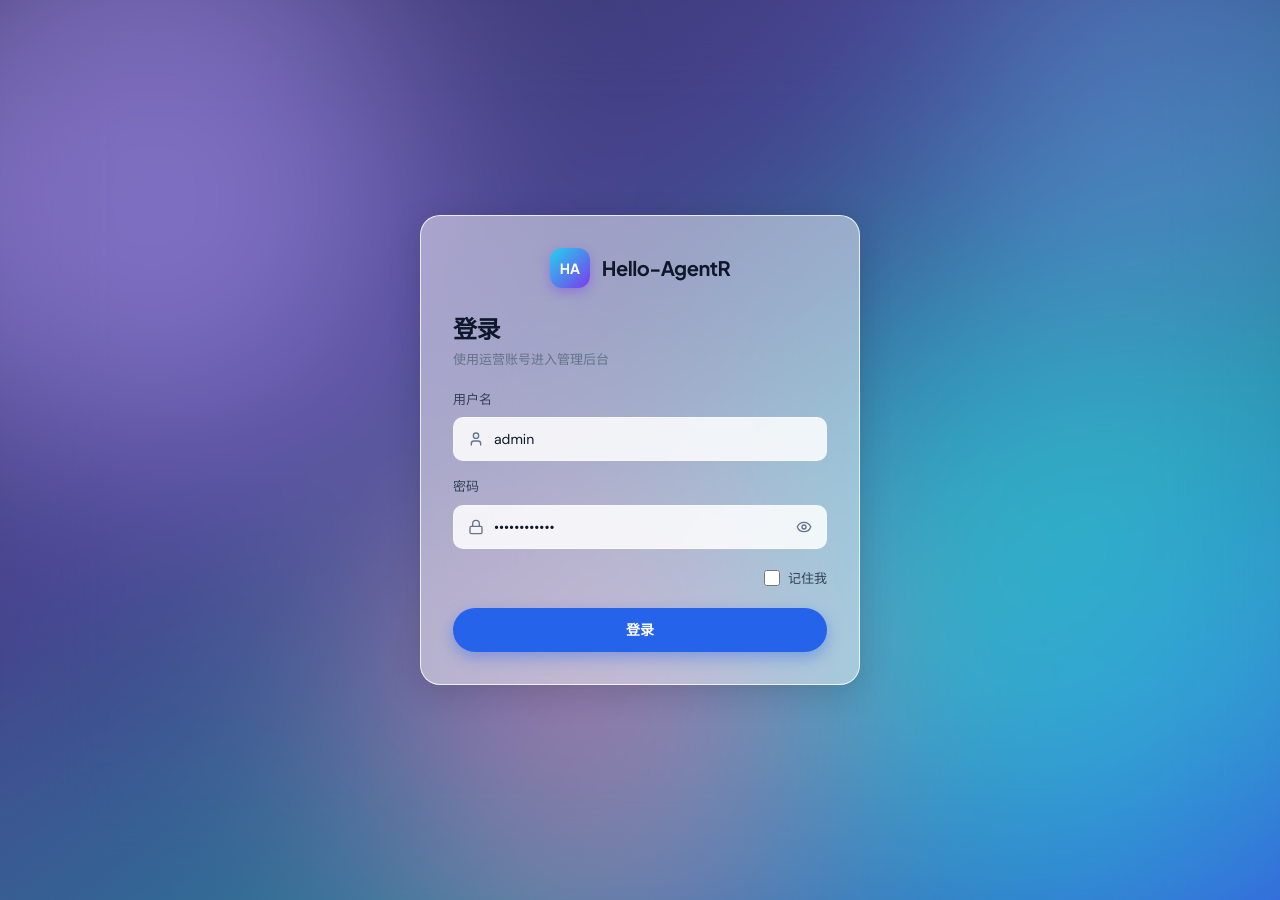
LoginPage › toggles password visibility
What coordinates should you click on to do the following:
click the button named "显示密码"
I would click on:
 (804, 526)
Its box is [796,518,812,534].
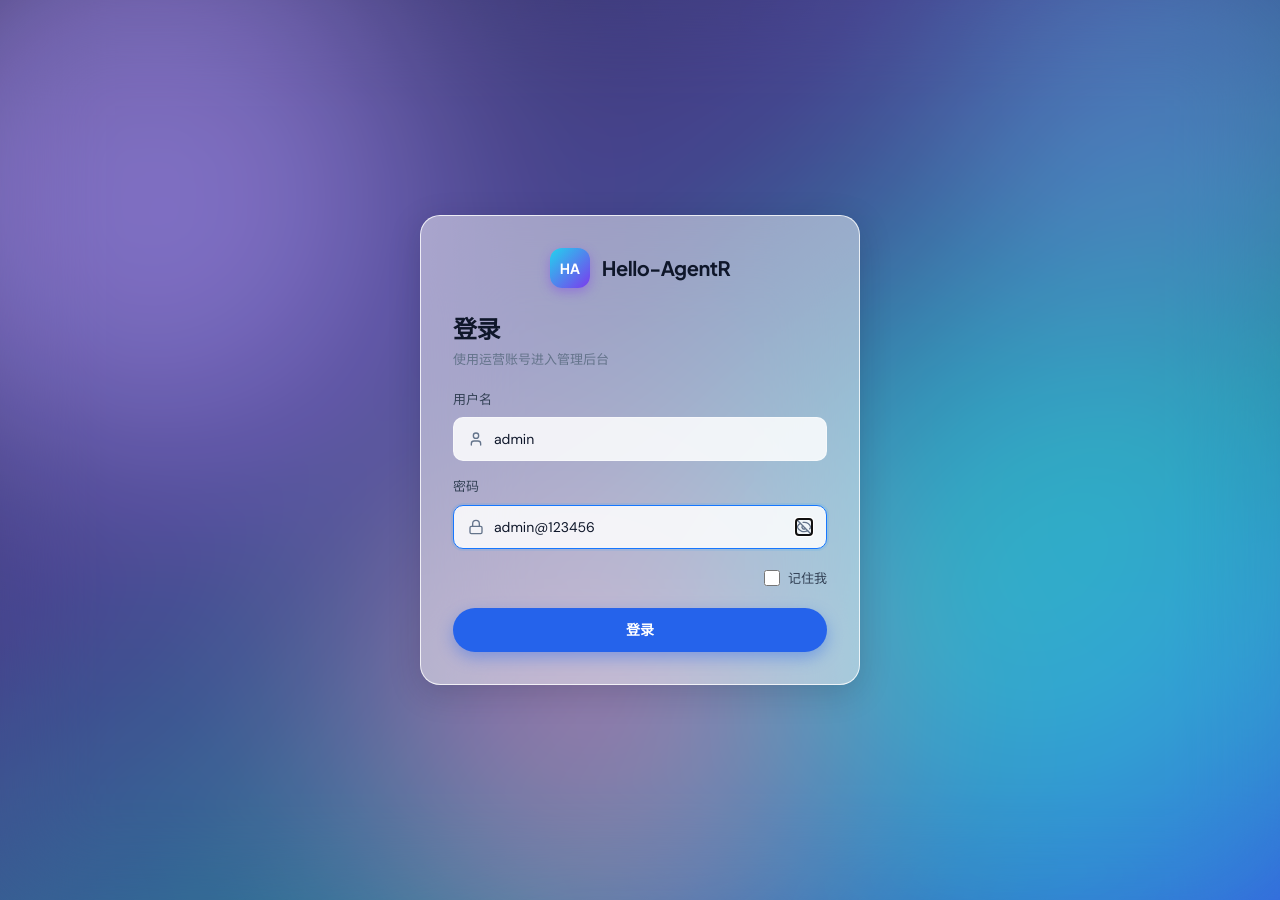
Expected: the field labelled "密码" shows its text, [494,506,786,548]
Expected: the button named "隐藏密码" is shown
What coordinates should you click on to do the following:
click the button named "隐藏密码"
I would click on:
 (804, 526)
Its box is [796,518,812,534].
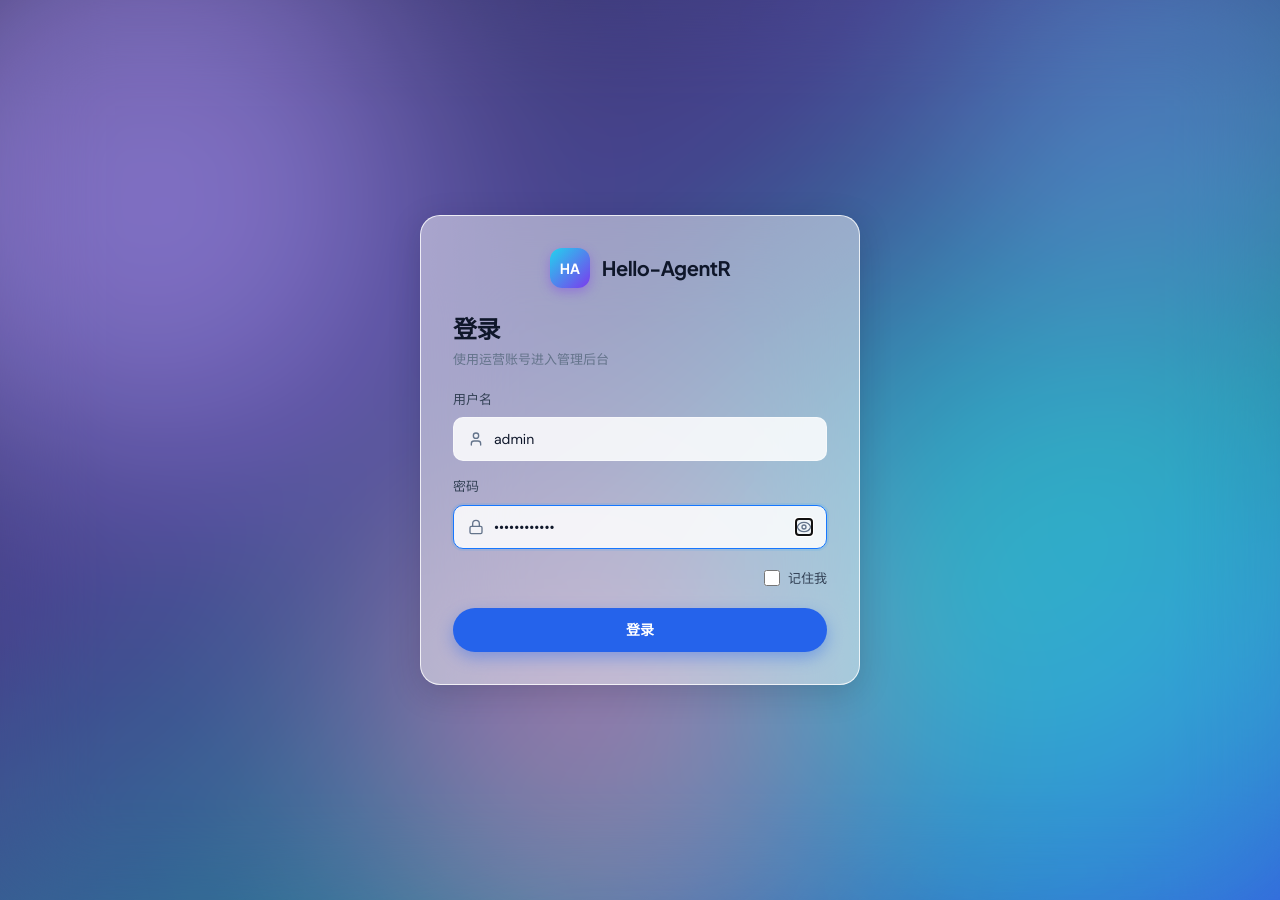
Expected: the password field labelled "密码" hides its text, [494,506,786,548]
